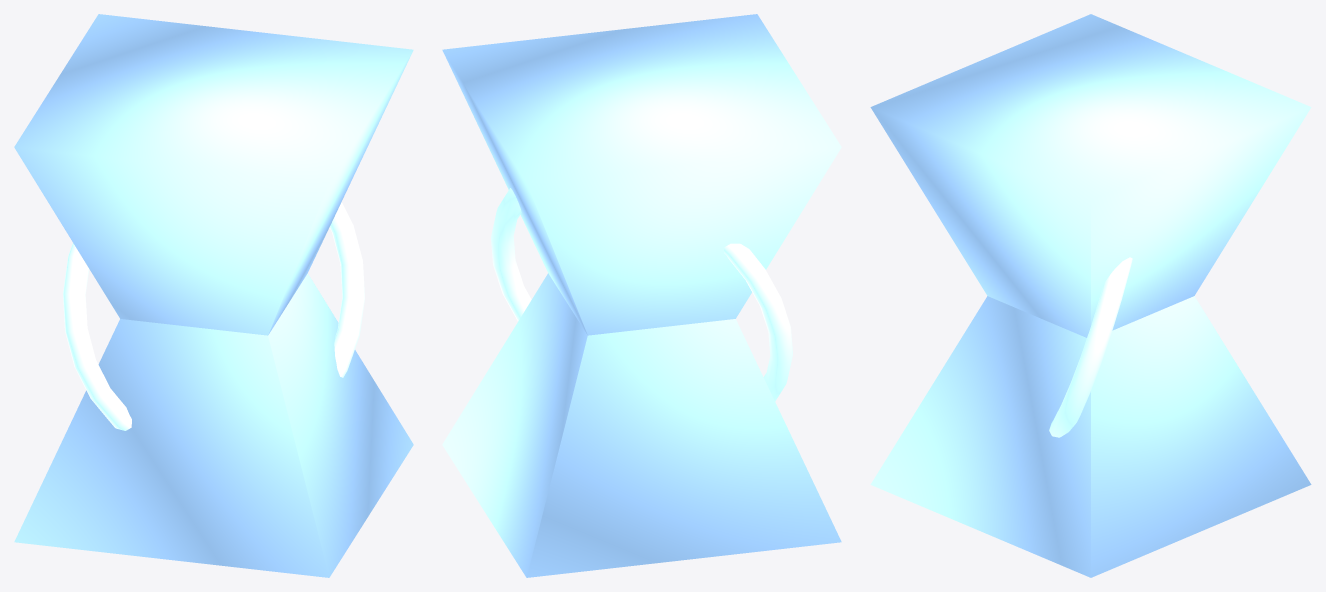
Rendered from boosting.glb.
3 views of the same model, side by side, from view 1: azimuth 30°, elevation 25°; view 2: azimuth 150°, elevation 25°; view 3: azimuth 270°, elevation 25° (orthographic). The views are drawn at different scales.
Visible parts, largest first — view 1: Cone.001, Cone, Torus; view 2: Cone.001, Cone, Torus; view 3: Cone.001, Cone, Torus.
Boxes of the visible parts, x1,y1,x2,y2 form: Cone.001: [14, 14, 413, 335]; Cone: [14, 273, 413, 577]; Torus: [63, 202, 364, 430]; Cone.001: [442, 14, 841, 335]; Cone: [442, 273, 841, 577]; Torus: [491, 188, 792, 401]; Cone.001: [870, 14, 1311, 337]; Cone: [870, 296, 1311, 577]; Torus: [1049, 257, 1132, 437].
Bounding box in the file's own units: 1.6 × 1.51 × 1.6.
